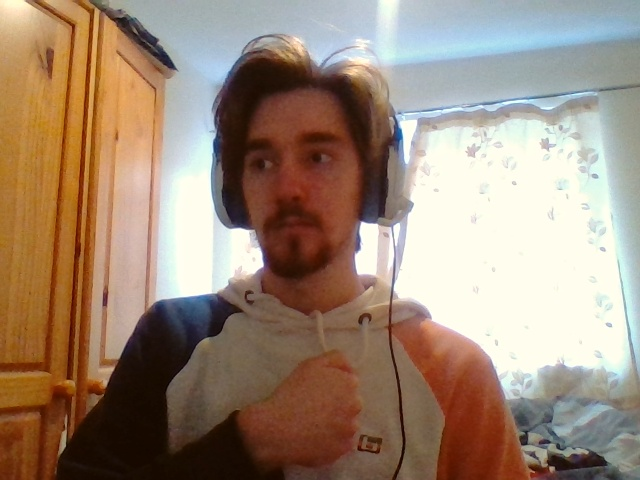morning: (258, 350, 362, 465)
